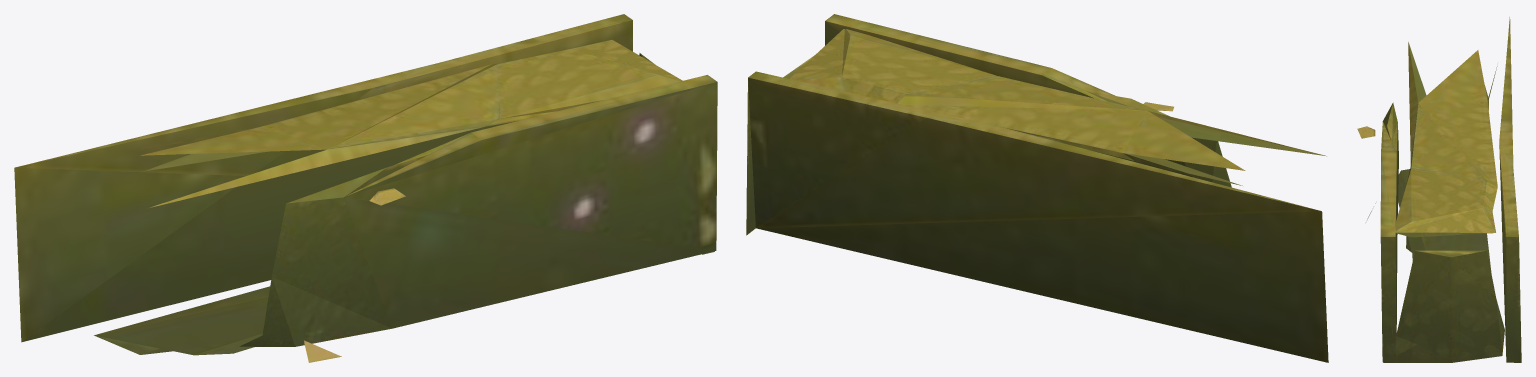
Rendered from mu-haie-semis.glb.
The picture shows the model from 3 angles, left to right: view 1: azimuth 30°, elevation 25°; view 2: azimuth 150°, elevation 25°; view 3: azimuth 270°, elevation 25°; orthographic projection. The views are drawn at different scales.
Visible parts, largest first — view 1: mu-haie-semis; view 2: mu-haie-semis; view 3: mu-haie-semis.
Part boxes in pixels (x1,y1,x2,y2): mu-haie-semis: [14, 14, 717, 362]; mu-haie-semis: [746, 14, 1328, 362]; mu-haie-semis: [1357, 17, 1521, 362].
Size of the model in its own units: 2 by 0.5487 by 0.6249.
1 material, 1 textured.
